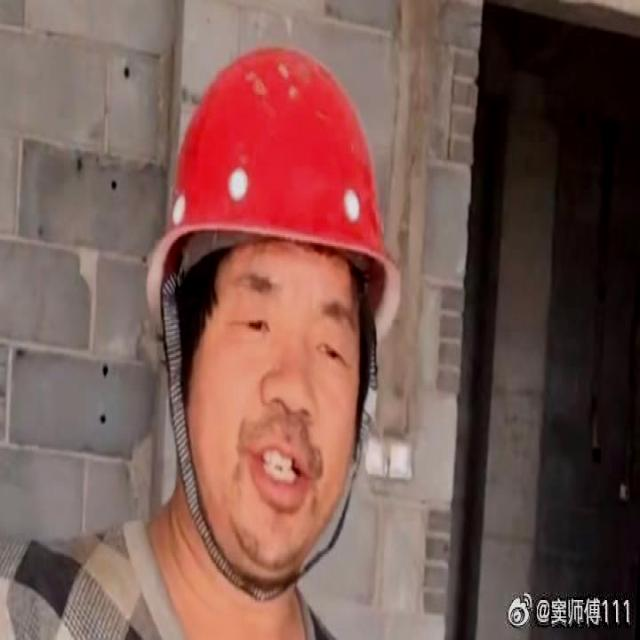face_nomask: (185, 261, 362, 554)
head_helmet: (170, 52, 401, 281)
person: (6, 35, 410, 640)
